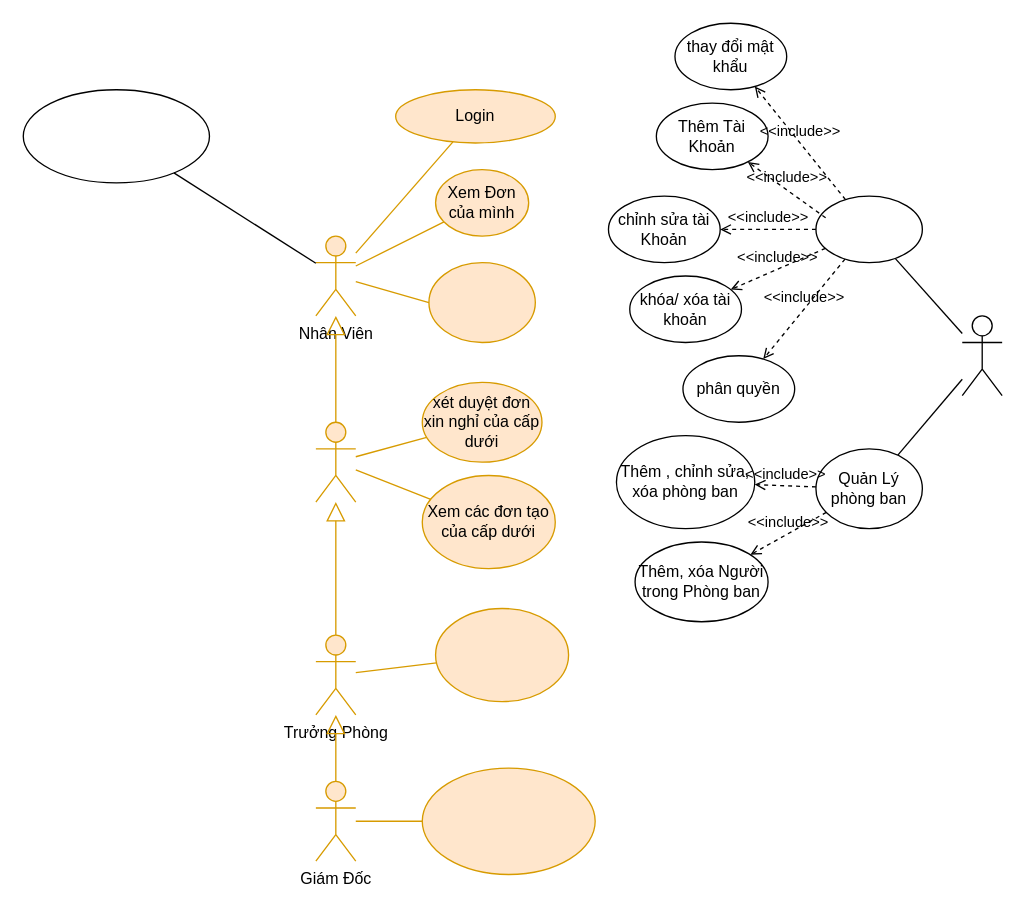
The diagram is 1027 pixels wide and 912 high, and some of its shapes have lost their labels. Each missing label, with the centre of its shape:
"admin" goes at point (981, 355).
"các dự án tham gia" goes at point (115, 135).
"Quản Lý tài Khoản" goes at point (868, 229).
"Trưởng nhóm" goes at point (335, 461).
"Tạo Đơn Xin Phép" goes at point (481, 301).
"Xem agenda Tình hình Lao Động của cả công ty" goes at point (508, 820).
"Xem agenda Tình hình Lao Động của phòng ban" goes at point (501, 654).
